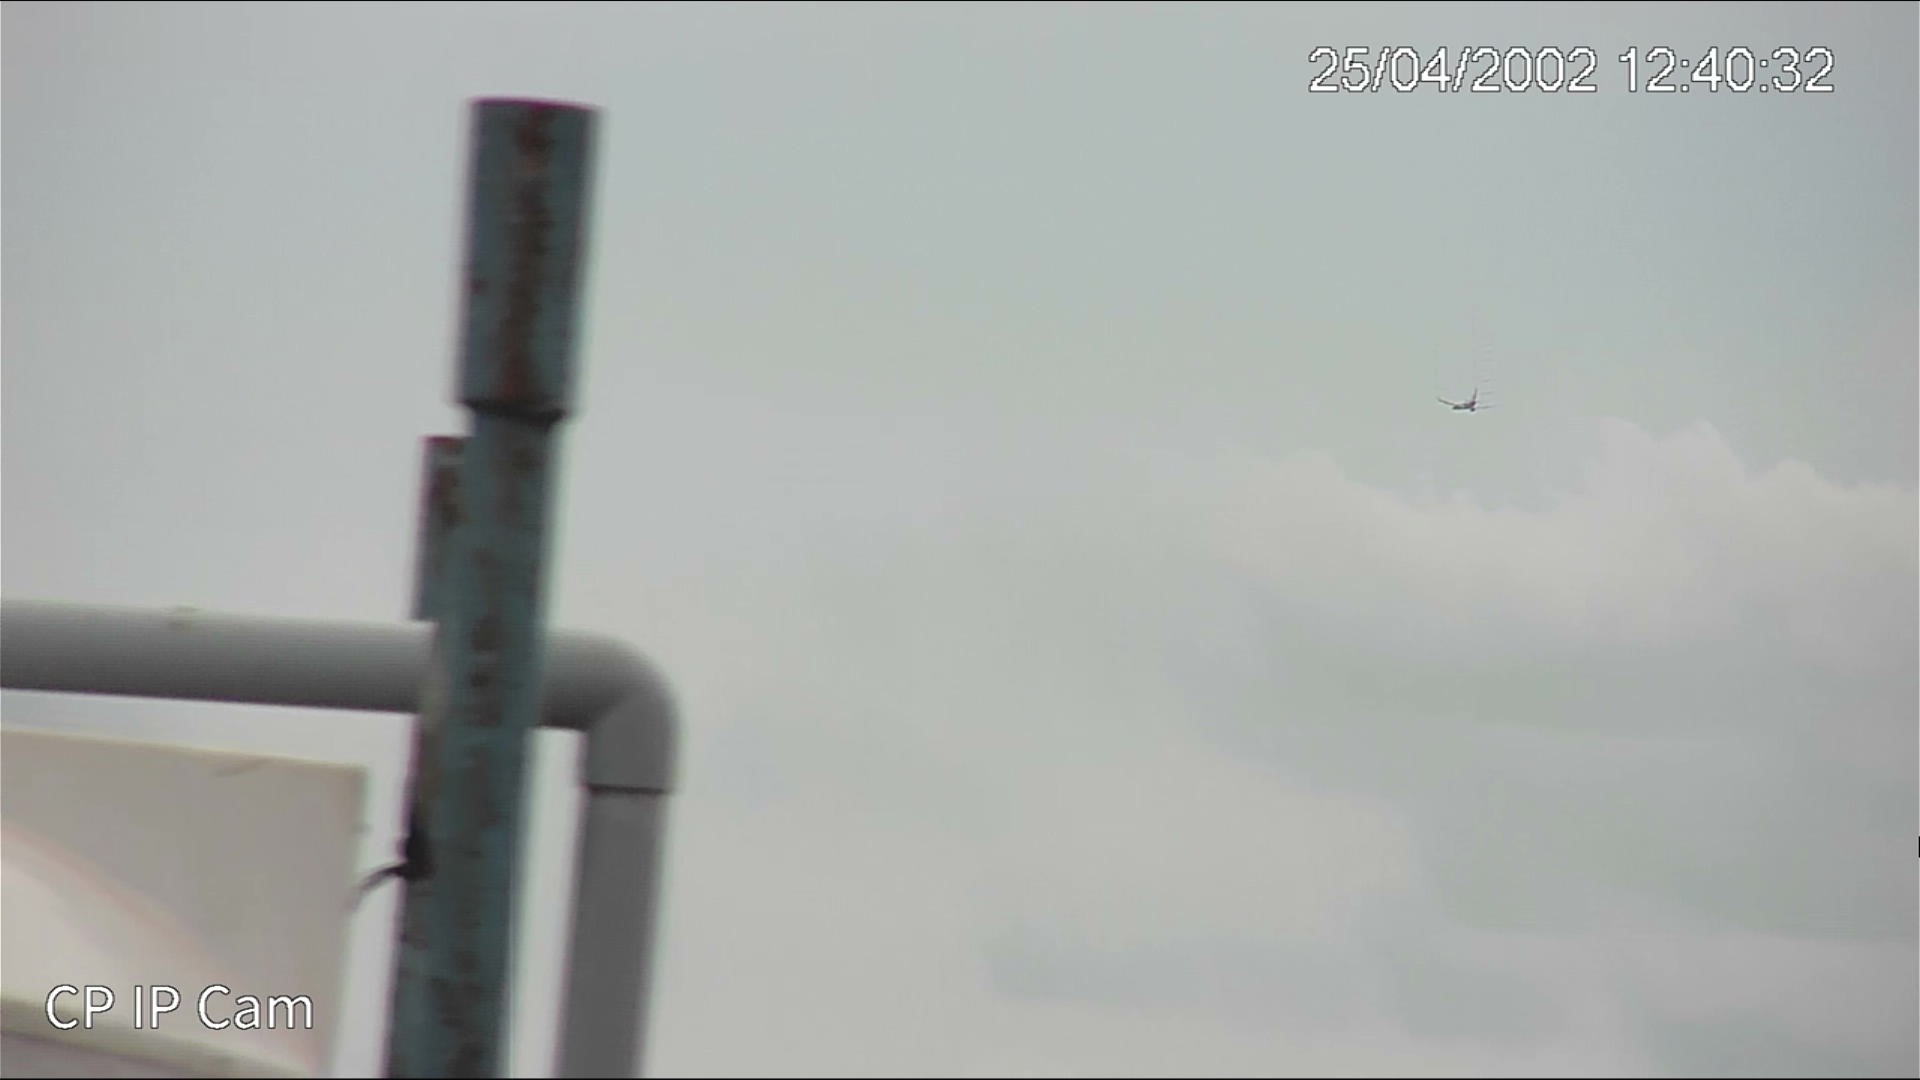SU_30: (1433, 385, 1491, 415)
